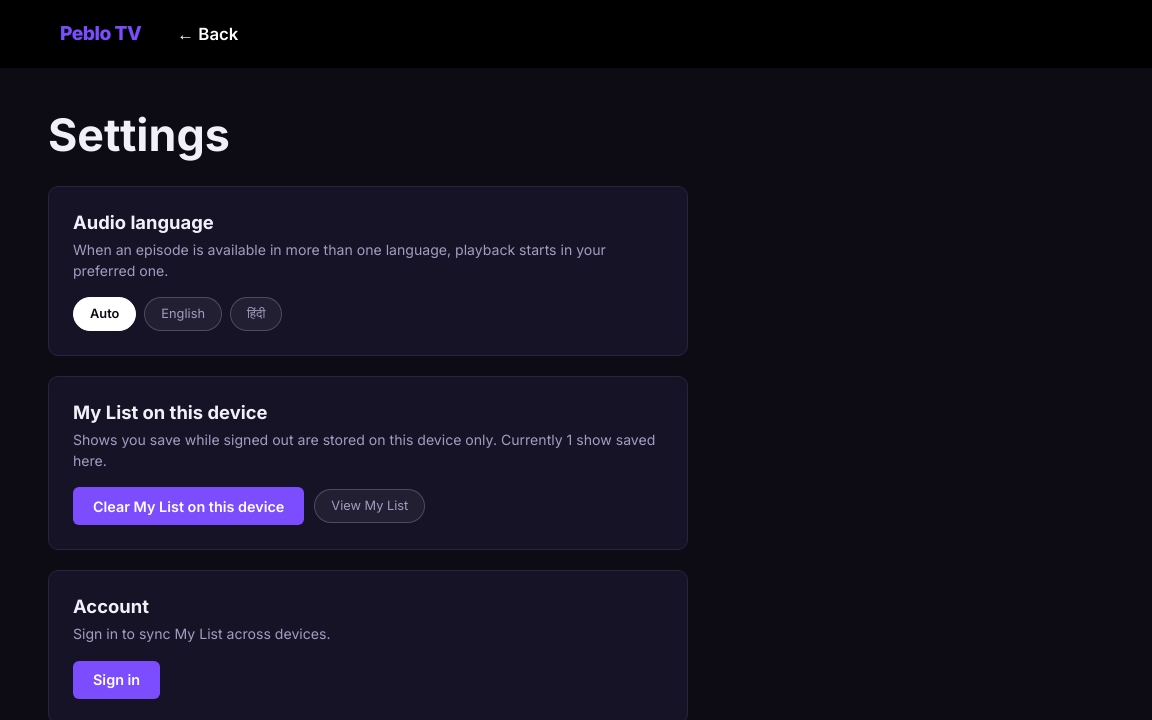
Scenario: Settings page › clears locally saved shows after confirmation
This screenshot has width=1152, height=720.
Click the button "Clear My List on this device" at coordinates (189, 506), box [73, 487, 304, 525]
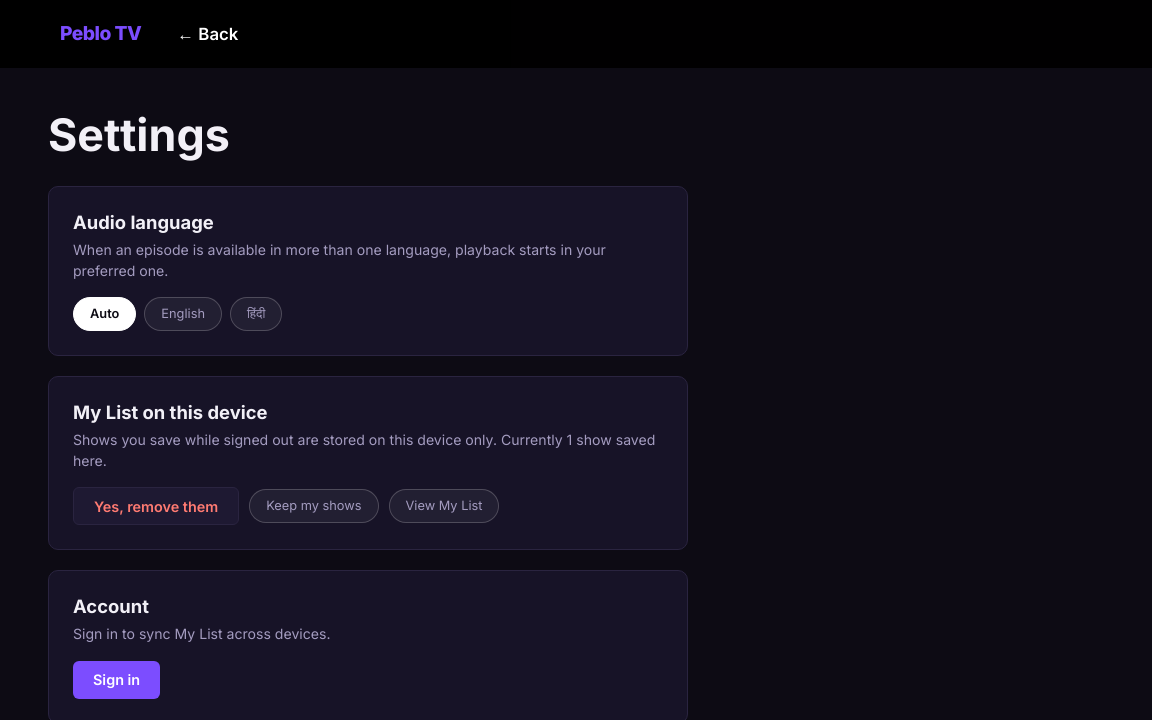
Click the button "Yes, remove them" at coordinates (156, 506), box [73, 487, 239, 525]
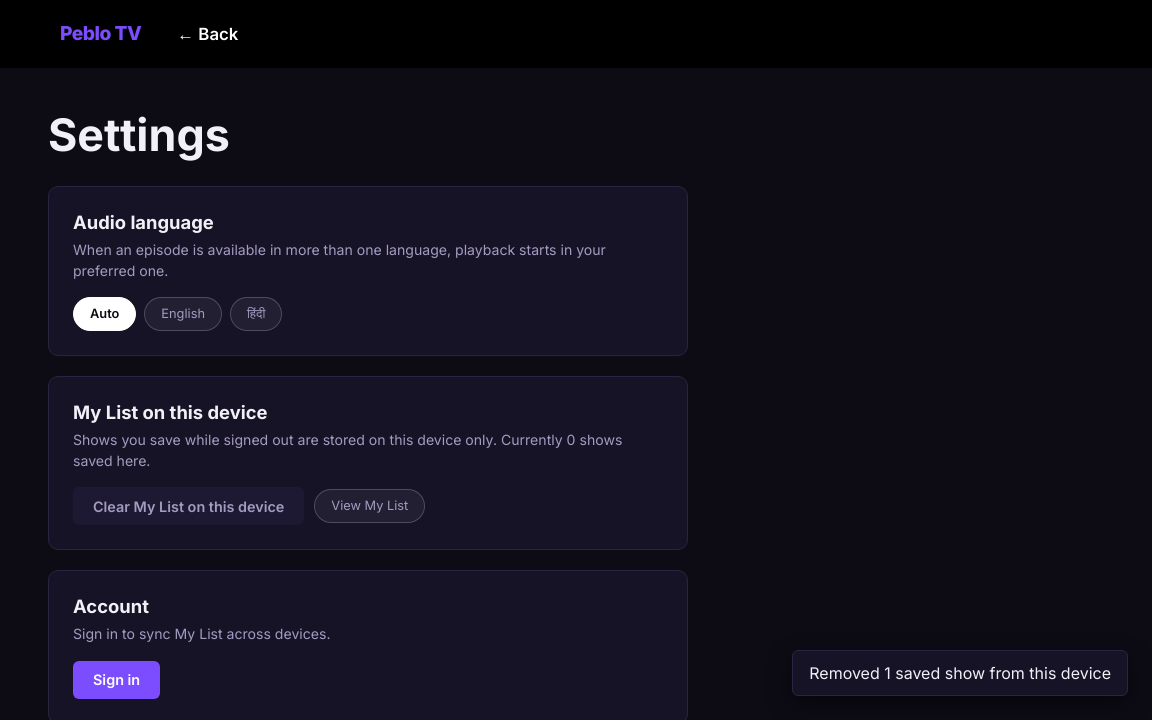
Check: the message shows "Removed 1 saved show", box [809, 663, 1111, 683]
